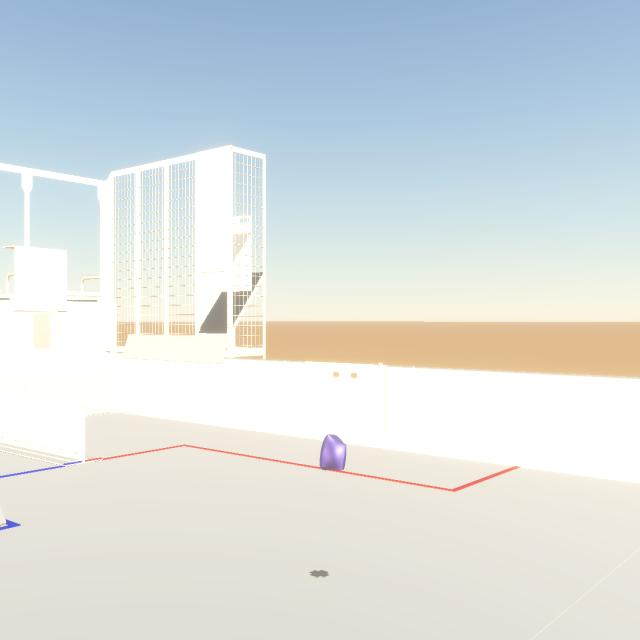frc_cube: (320, 434, 346, 470)
